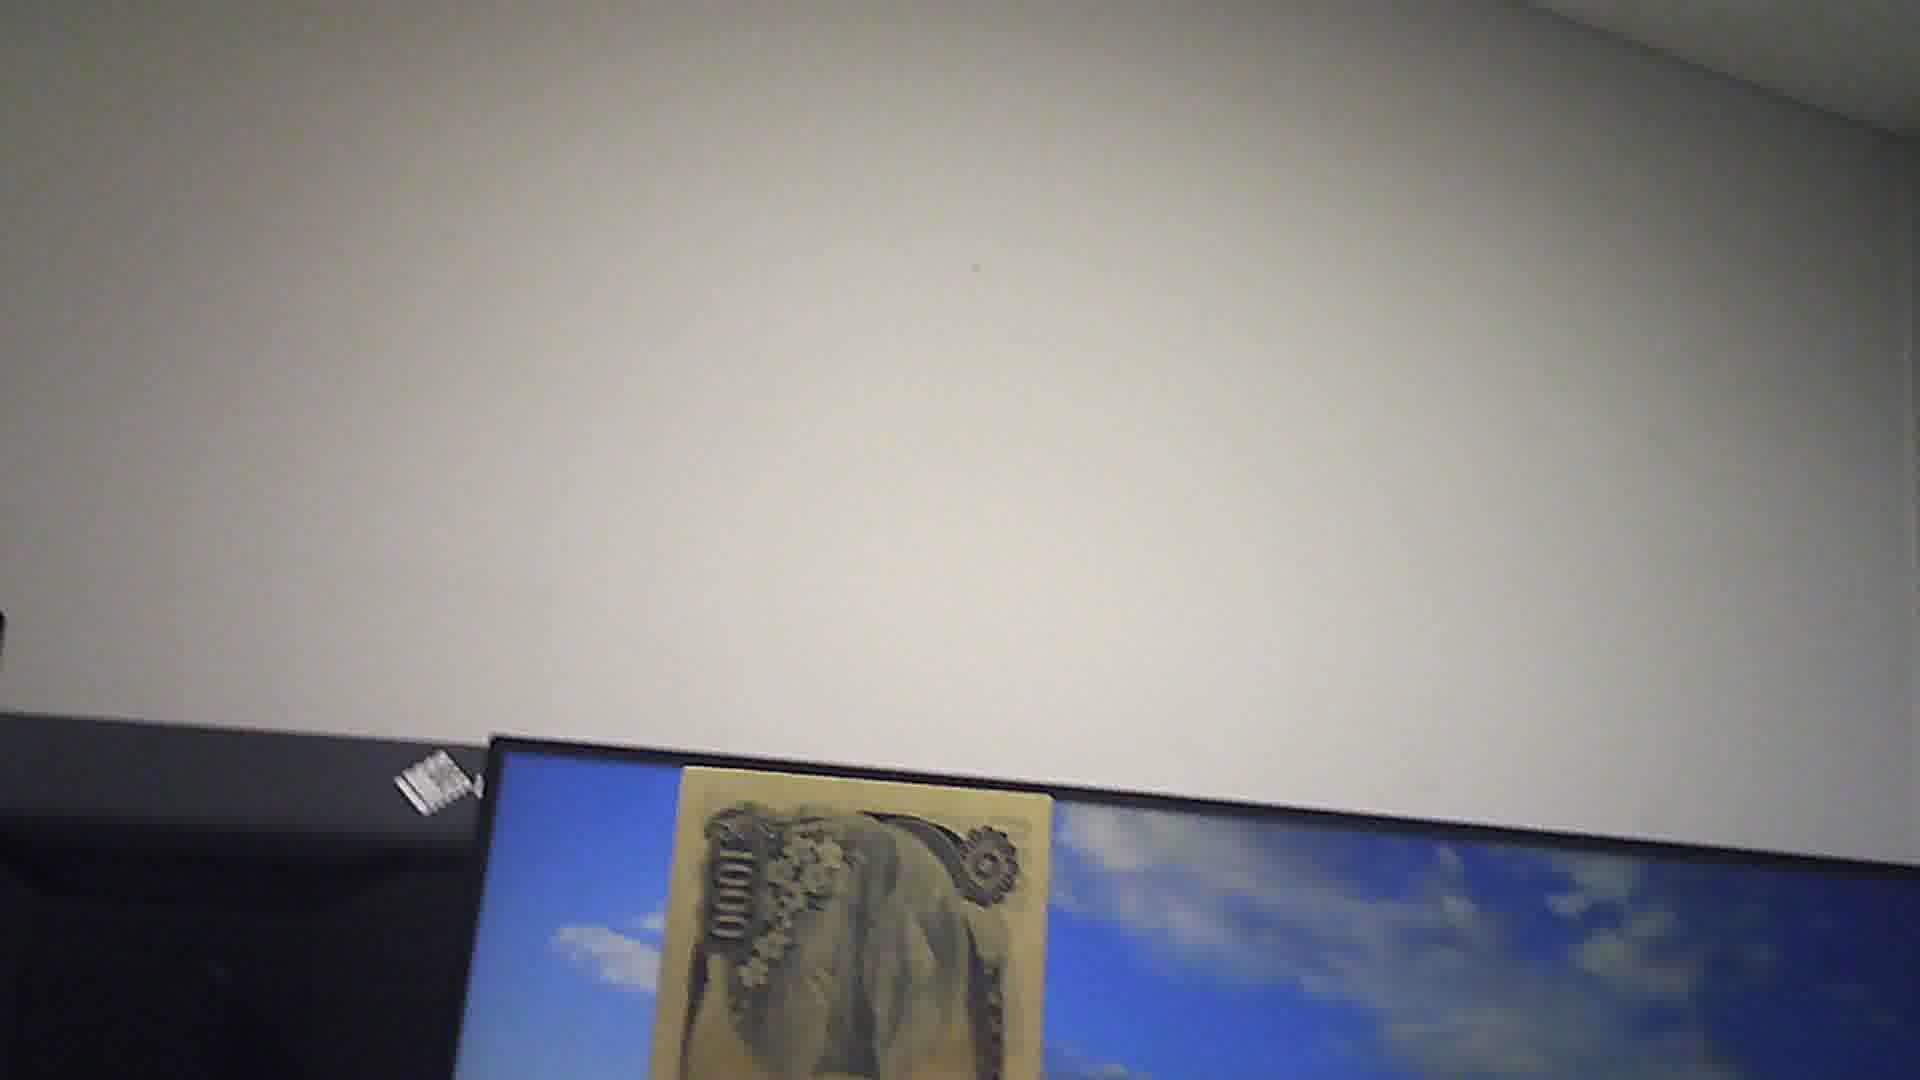1,000 Yen: (644, 746, 1040, 1079)
